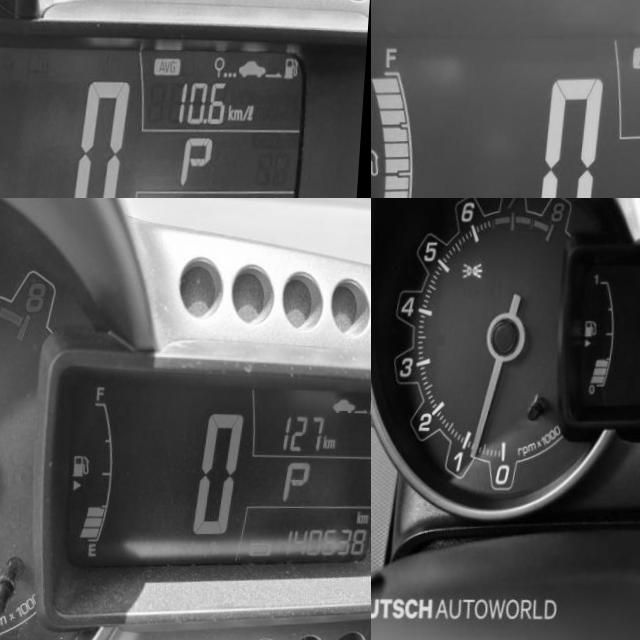SideLamp: (463, 260, 486, 277)
